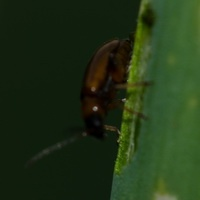insect: (24, 33, 133, 167)
